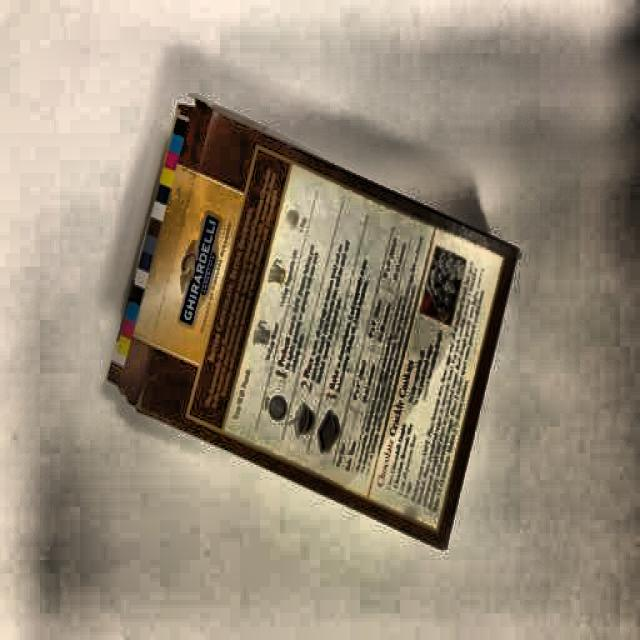paper: (106, 91, 524, 569)
